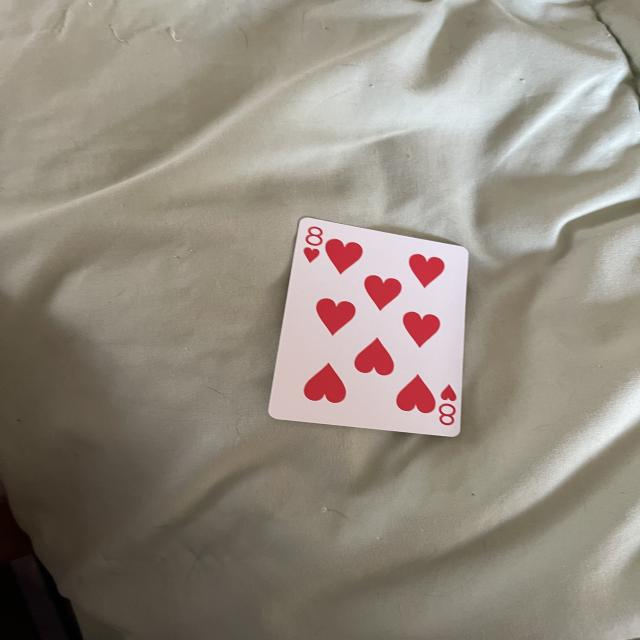8 of hearts: (267, 217, 469, 438)
